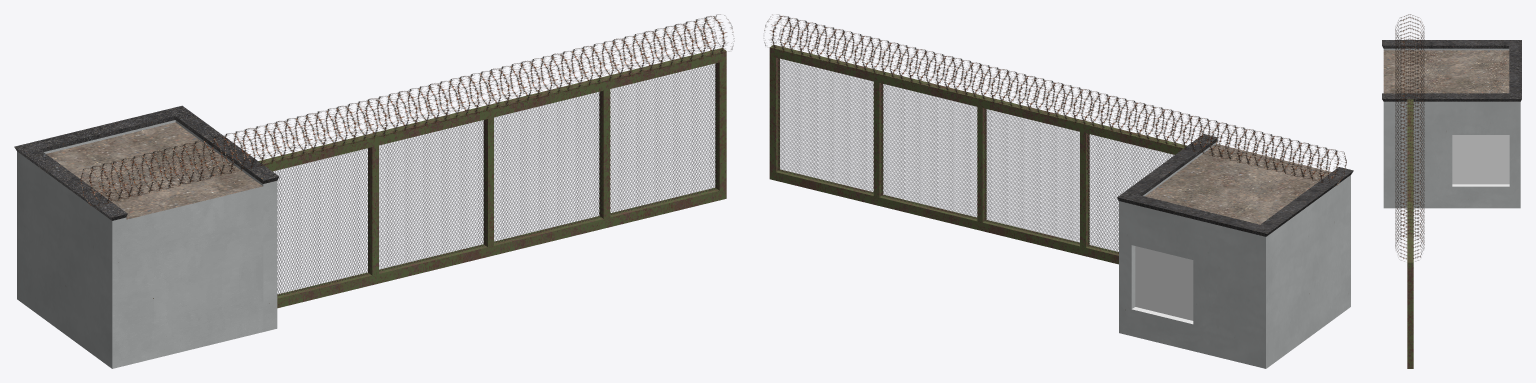
File: checkpoint.gltf
3 views of the same model, side by side, from view 1: azimuth 30°, elevation 25°; view 2: azimuth 150°, elevation 25°; view 3: azimuth 270°, elevation 25° (orthographic). The views are drawn at different scales.
Visible parts, largest first — view 1: Gate-col, Building-col, Barbwire; view 2: Gate-col, Building-col, Barbwire; view 3: Building-col, Barbwire, Gate-col.
Boxes of the visible parts, x1=… form: Gate-col: x1=258, y1=48, x2=726, y2=308; Building-col: x1=14, y1=105, x2=279, y2=368; Barbwire: x1=80, y1=14, x2=734, y2=205; Gate-col: x1=769, y1=45, x2=1186, y2=264; Building-col: x1=1117, y1=134, x2=1353, y2=368; Barbwire: x1=764, y1=14, x2=1346, y2=185; Building-col: x1=1382, y1=40, x2=1521, y2=208; Barbwire: x1=1395, y1=14, x2=1424, y2=261; Gate-col: x1=1407, y1=99, x2=1413, y2=368.
Size of the model in its own units: 35.42 by 10.03 by 9.4.
Materials: 7 (6 with a texture image).
